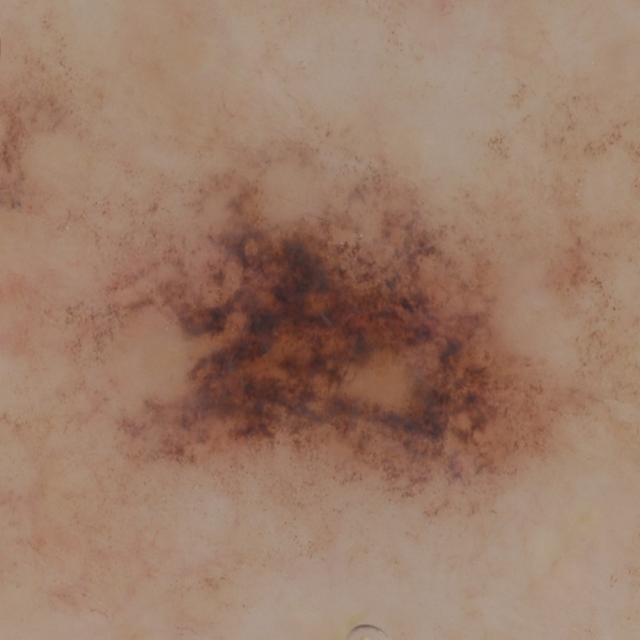Melanoma: (80, 132, 557, 518)
